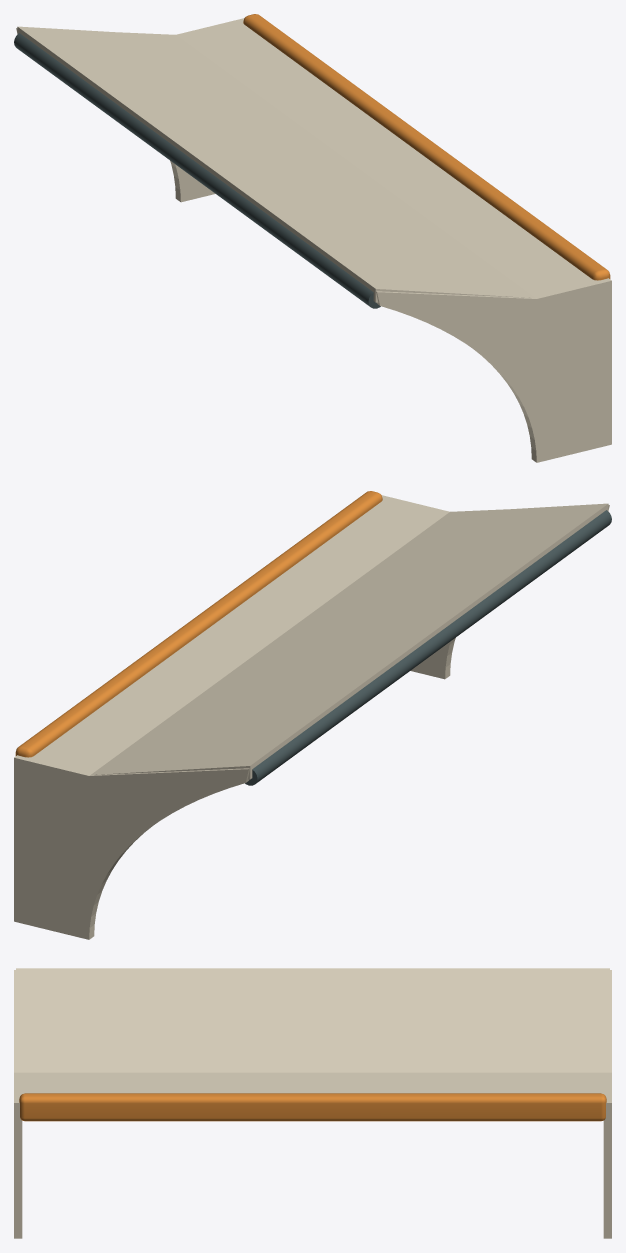
The model's file is garden-link-hood-2m.glb.
3 views of the same model, one above another, from view 1: azimuth 30°, elevation 25°; view 2: azimuth 150°, elevation 25°; view 3: azimuth 270°, elevation 25° (orthographic). The views are drawn at different scales.
Visible parts, largest first — view 1: garden-link-hood-2m / 01 • warm porcelain paint, garden-link-hood-2m / 03 • ochre enamel, garden-link-hood-2m / 06 • dark anodized frame; view 2: garden-link-hood-2m / 01 • warm porcelain paint, garden-link-hood-2m / 03 • ochre enamel, garden-link-hood-2m / 06 • dark anodized frame; view 3: garden-link-hood-2m / 01 • warm porcelain paint, garden-link-hood-2m / 03 • ochre enamel.
Boxes of the visible parts, x1,y1,x2,y2 form: garden-link-hood-2m / 01 • warm porcelain paint: (16,18,611,462); garden-link-hood-2m / 03 • ochre enamel: (243,14,610,280); garden-link-hood-2m / 06 • dark anodized frame: (14,33,380,308); garden-link-hood-2m / 01 • warm porcelain paint: (14,495,609,939); garden-link-hood-2m / 03 • ochre enamel: (15,491,382,757); garden-link-hood-2m / 06 • dark anodized frame: (245,510,611,785); garden-link-hood-2m / 01 • warm porcelain paint: (14,968,611,1238); garden-link-hood-2m / 03 • ochre enamel: (19,1093,606,1121).
Size of the model in its own units: 0.7795 by 0.647 by 2.
